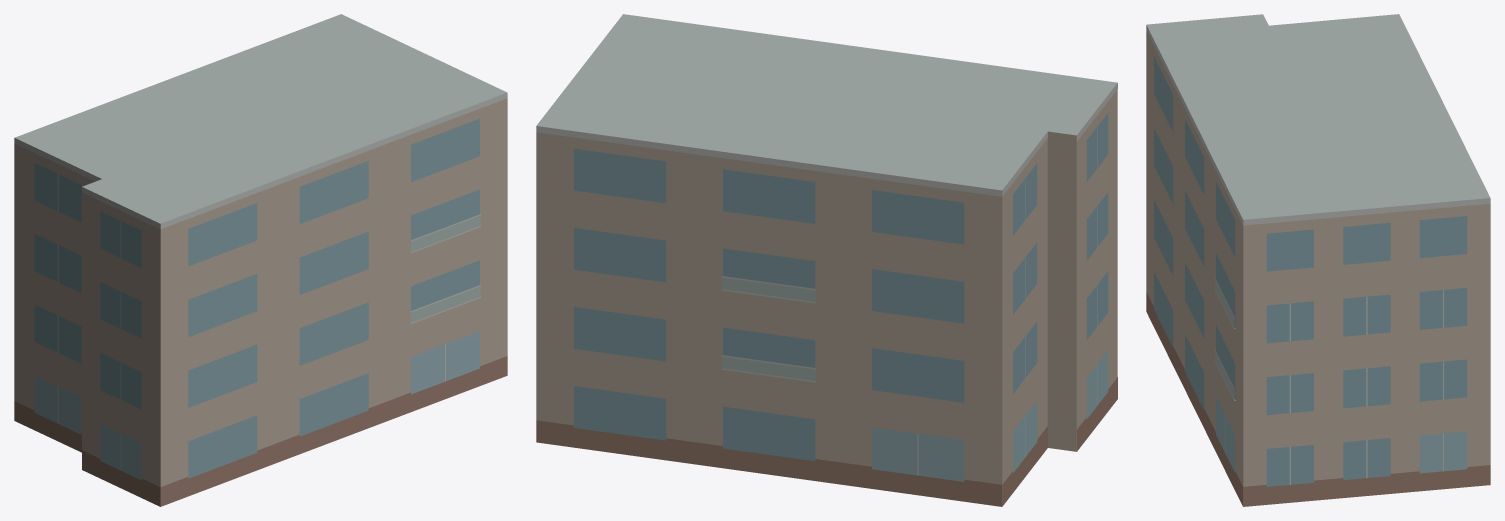
The model's file is residential-08e16ba9-44d9-45d7-ad89-2c15e81aff33.glb.
3 renders of one model, left to right at view 1: azimuth 30°, elevation 25°; view 2: azimuth 150°, elevation 25°; view 3: azimuth 270°, elevation 25°, orthographic. The views are drawn at different scales.
Visible parts, largest first — view 1: residential-08e16ba9-44d9-45d7-ad89-2c15e81aff33.tmp; view 2: residential-08e16ba9-44d9-45d7-ad89-2c15e81aff33.tmp; view 3: residential-08e16ba9-44d9-45d7-ad89-2c15e81aff33.tmp.
Part boxes in pixels (x1=…): residential-08e16ba9-44d9-45d7-ad89-2c15e81aff33.tmp: x1=14, y1=14, x2=507, y2=506; residential-08e16ba9-44d9-45d7-ad89-2c15e81aff33.tmp: x1=536, y1=14, x2=1117, y2=506; residential-08e16ba9-44d9-45d7-ad89-2c15e81aff33.tmp: x1=1146, y1=14, x2=1490, y2=506.
Bounding box in the file's own units: 18.77 × 12.2 × 13.27.
